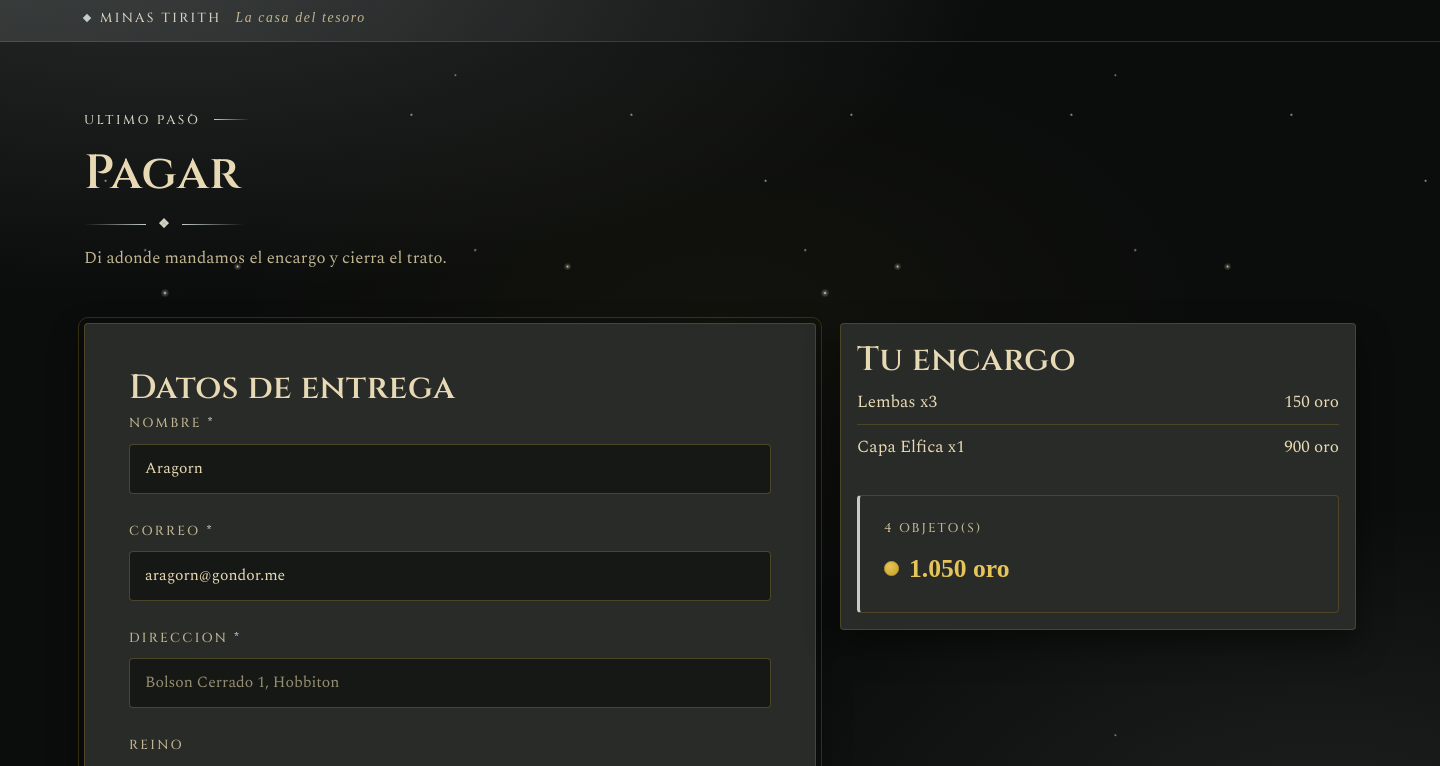
Test: Checkout › el formulario › tampoco con una direccion de dos letras
In the field labelled "Direccion *": (450, 683) [129,658,771,708], type "ab"
(page scrolled)
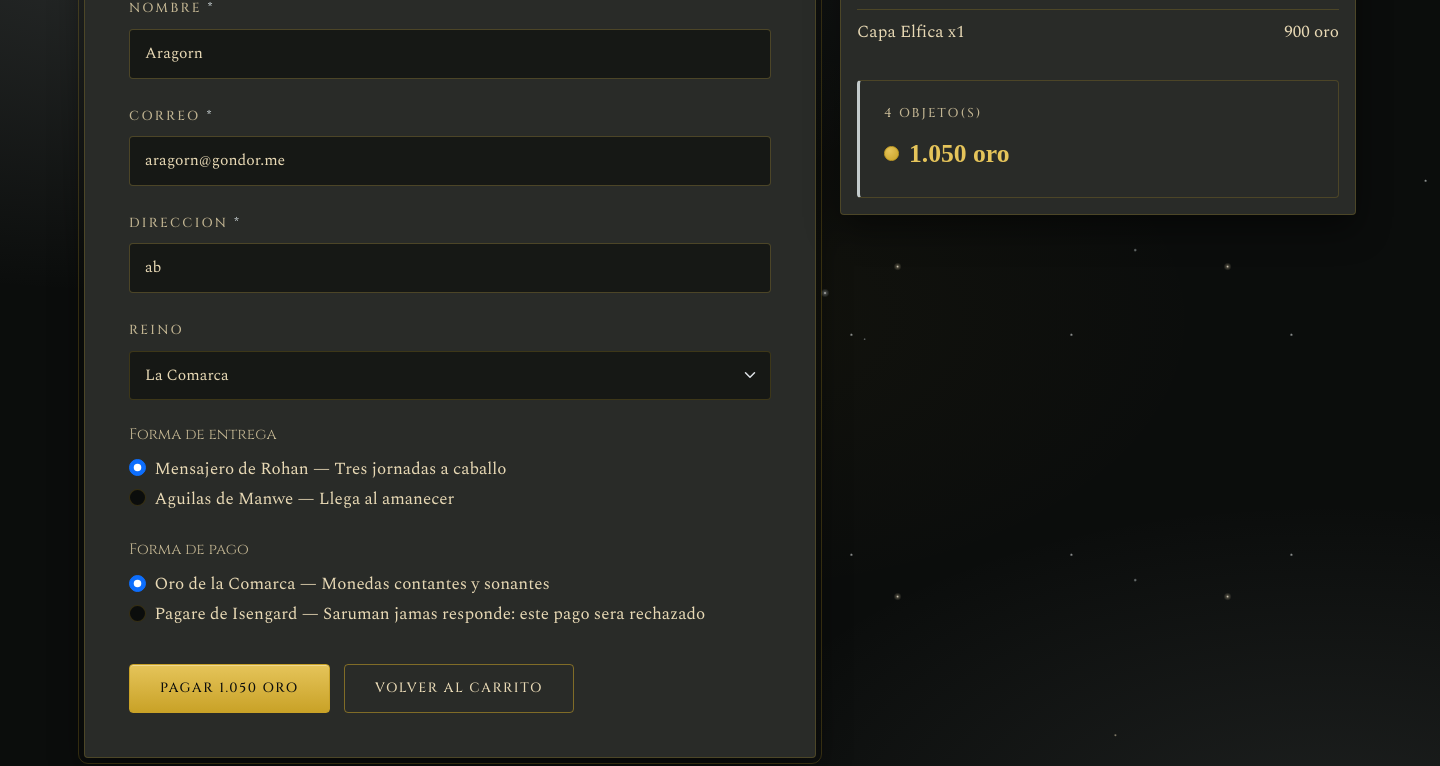
Click the button "Pagar 1.050 oro": (229, 688) [129,664,330,713]
(page scrolled)
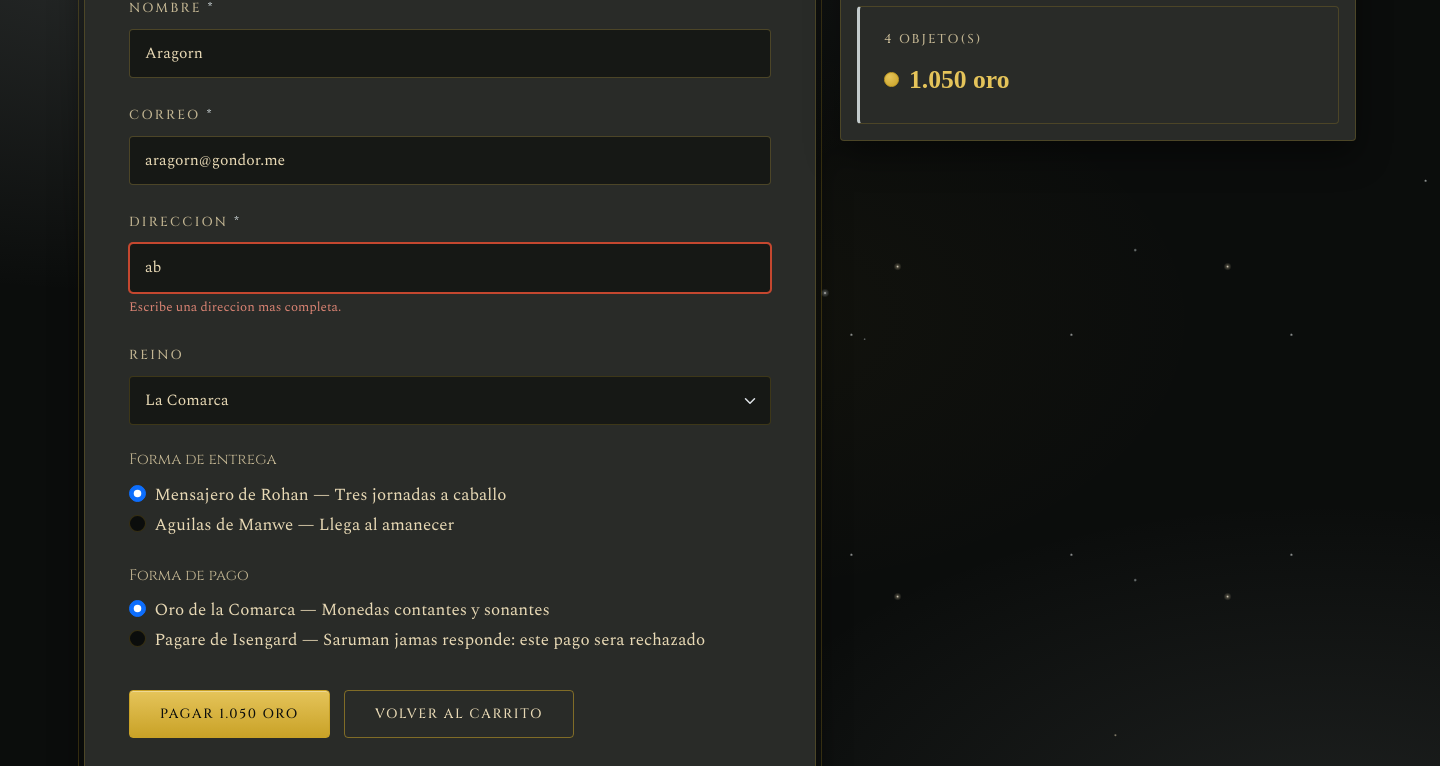
Expected: the text "Escribe una direccion mas completa." is shown, [129,297,341,317]
